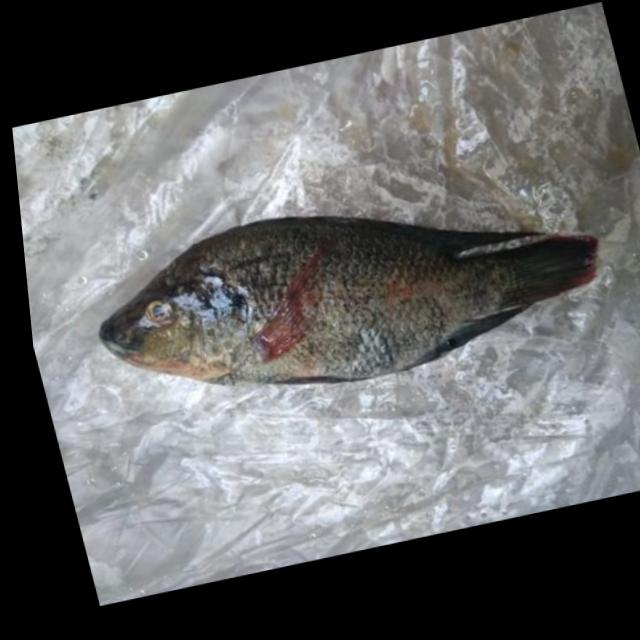Tilapia: (70, 152, 621, 432)
